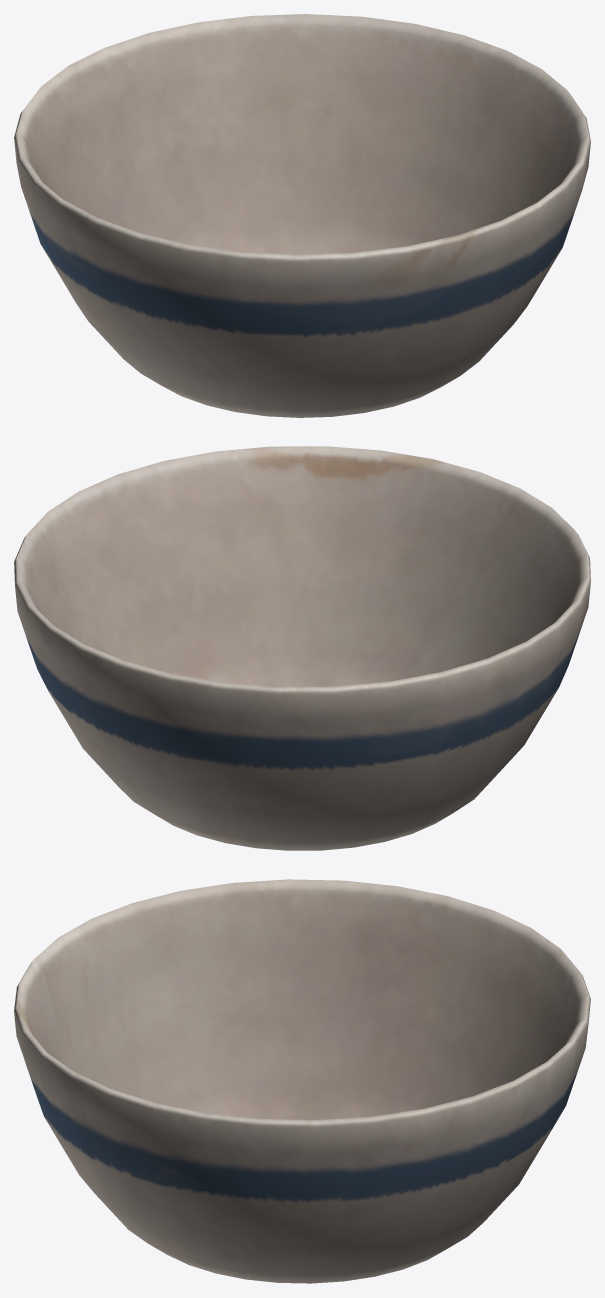
The model's file is SM_Tableware_Bowl_01.fbx.
The picture shows the model from 3 angles, top to bottom: view 1: azimuth 30°, elevation 25°; view 2: azimuth 150°, elevation 25°; view 3: azimuth 270°, elevation 25°; orthographic projection.
Visible parts, largest first — view 1: SM_Tableware_Bowl_01_LOD0; view 2: SM_Tableware_Bowl_01_LOD0; view 3: SM_Tableware_Bowl_01_LOD0.
Part boxes in pixels (x1=…): SM_Tableware_Bowl_01_LOD0: x1=14, y1=14, x2=590, y2=417; SM_Tableware_Bowl_01_LOD0: x1=14, y1=446, x2=590, y2=850; SM_Tableware_Bowl_01_LOD0: x1=14, y1=879, x2=590, y2=1283.
Bounding box in the file's own units: 27.96 × 27.96 × 11.73.
1 material, 1 textured.
